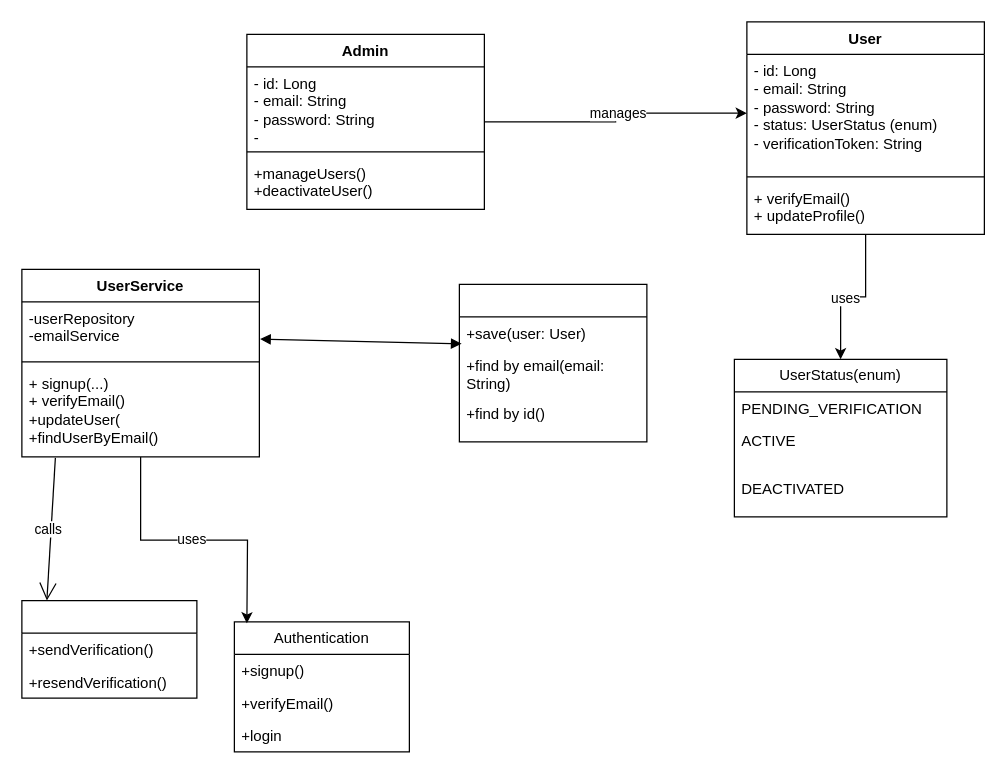
The diagram is 1006 pixels wide and 778 high, and some of its shapes have lost their labels. Each missing label, with the box of its shape:
EmailService: (21, 599, 197, 698)
UserRepository: (458, 283, 647, 442)
